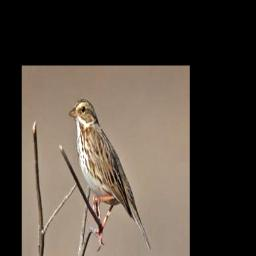Sparrow: (69, 98, 152, 253)
